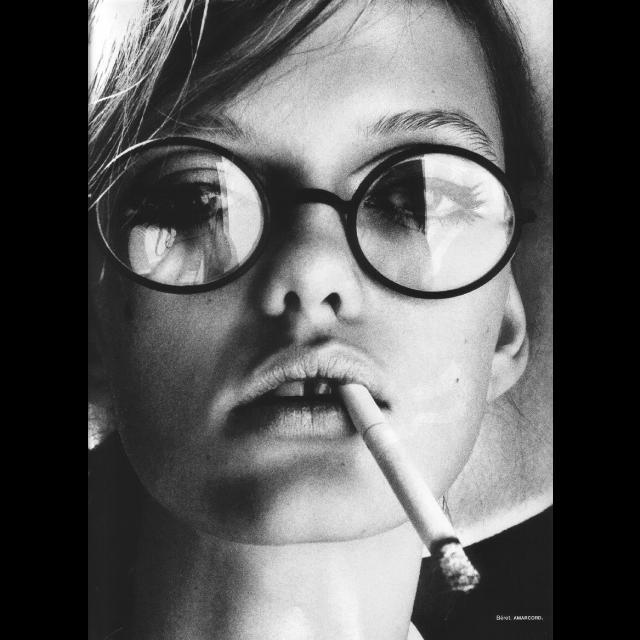rokok: (334, 369, 490, 601)
